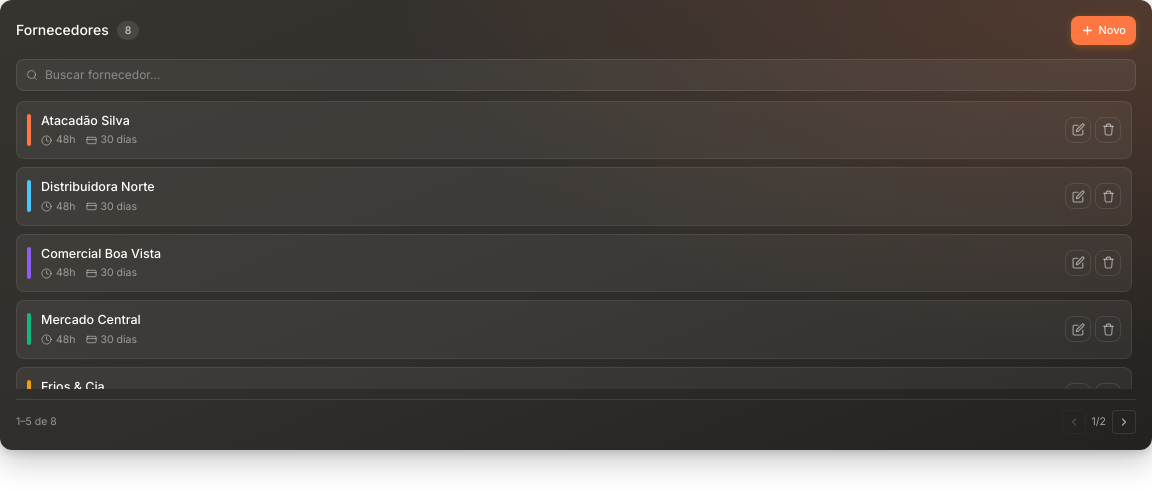
Test: FornecedoresPainel — busca › busca sem resultado mostra mensagem específica, diferente de 'nenhum cadastrado'
Expected: the text "Atacadão Silva" is shown, [41,112,130,130]
Type "xyz-inexistente" into the field with placeholder "Buscar fornecedor..." at (576, 74), box [16,58,1136,90]
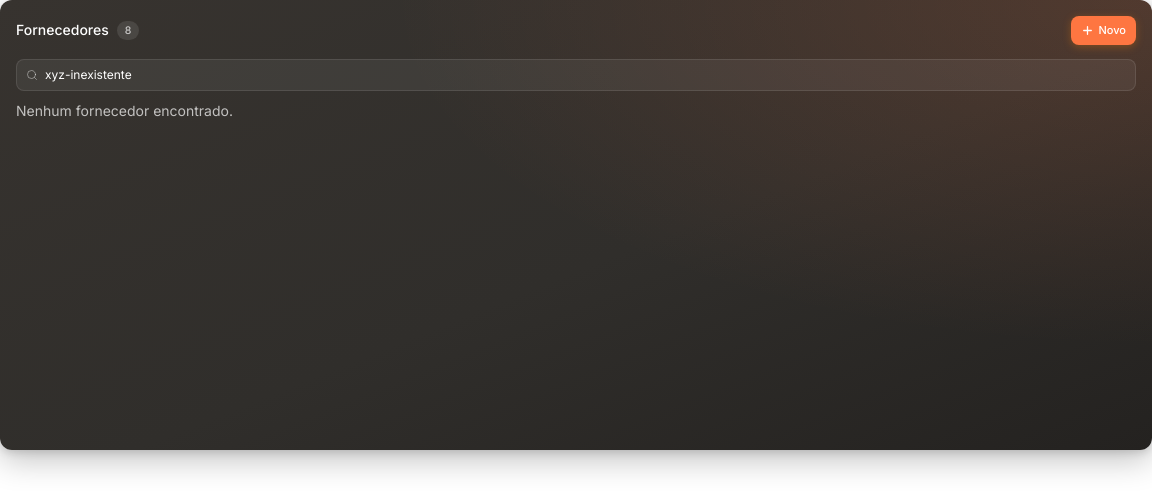
Expected: the text "Nenhum fornecedor encontrado." is shown, [16,102,233,118]
